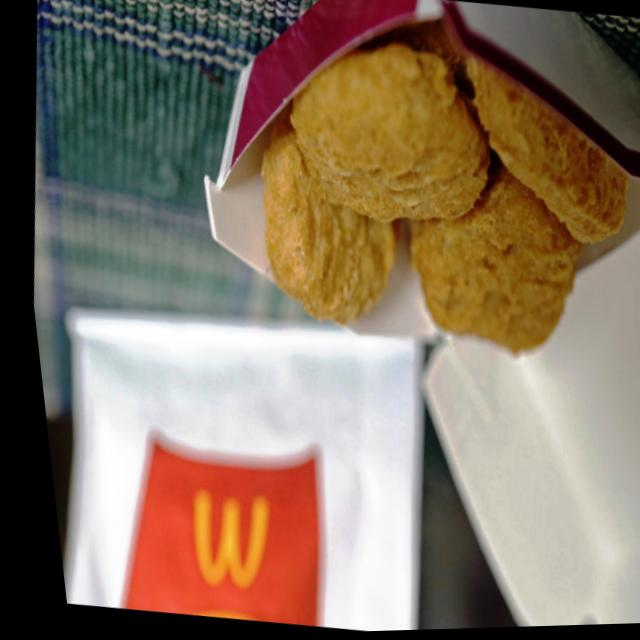chicken_nuggets: (280, 36, 504, 245), (235, 124, 418, 347), (388, 199, 610, 375)
